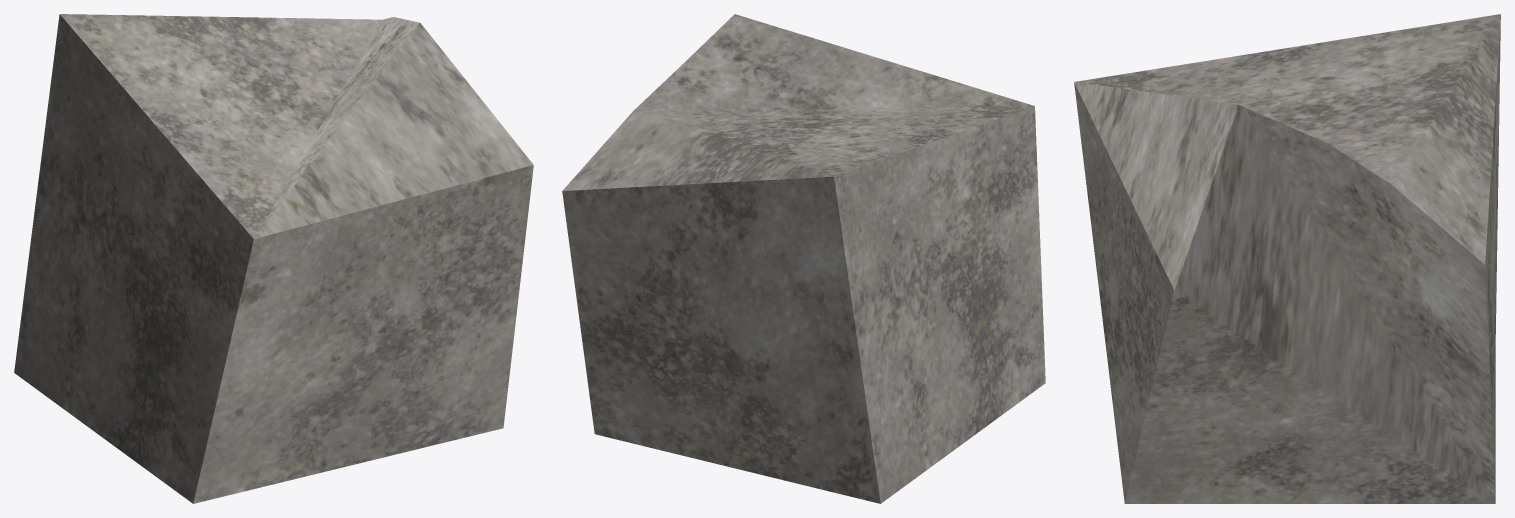
The model's file is stone.fbx.
The picture shows the model from 3 angles, left to right: view 1: azimuth 30°, elevation 25°; view 2: azimuth 150°, elevation 25°; view 3: azimuth 270°, elevation 25°; orthographic projection. The views are drawn at different scales.
Visible parts, largest first — view 1: Cube; view 2: Cube; view 3: Cube.
Boxes of the visible parts, box(x1,y1,x2,y2) form: Cube: box(14, 14, 533, 503); Cube: box(562, 14, 1045, 503); Cube: box(1074, 14, 1500, 503).
Bounding box in the file's own units: 235 × 229 × 230.
Materials: 1 (1 with a texture image).
